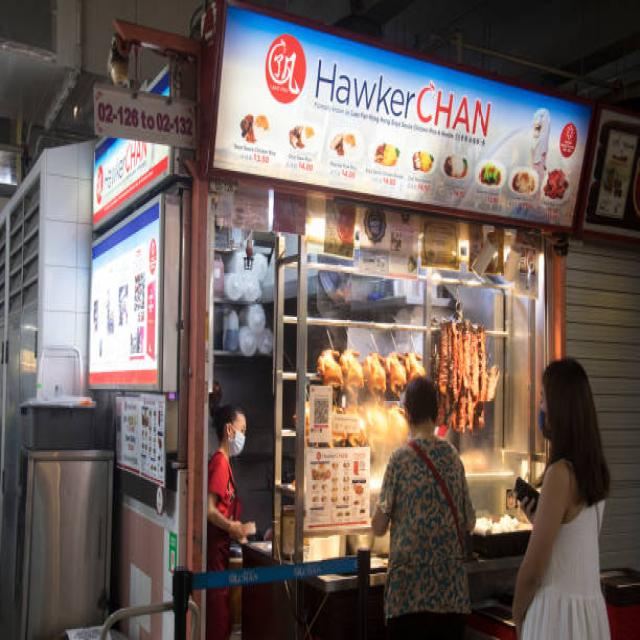Emperan: (193, 161, 571, 640)
